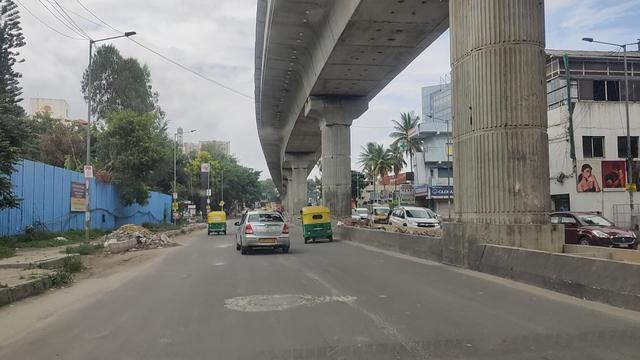LMV: (233, 207, 291, 254), (301, 206, 333, 243), (206, 211, 227, 233)
RoadDamages: (214, 290, 354, 313)
